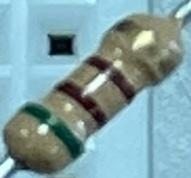Black: (55, 76, 115, 130)
Brown: (83, 52, 138, 104)
Green: (18, 96, 90, 163)
Side-Gold: (113, 17, 177, 82)
